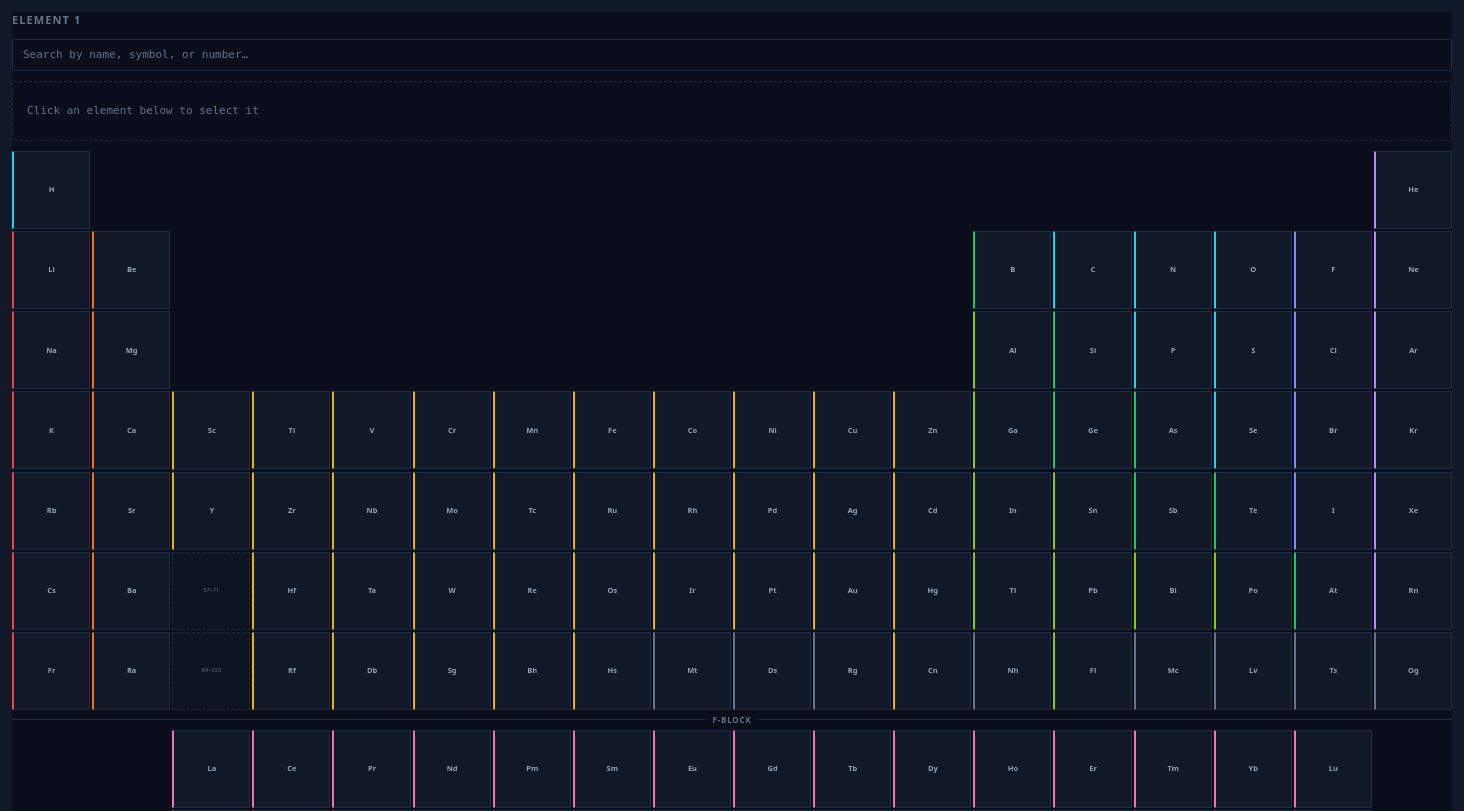
Test: ElementSelector › selects an element from the mini grid and shows the selected panel
Click the button "H": coordinates (51, 190) x1=12 y1=151 x2=90 y2=229
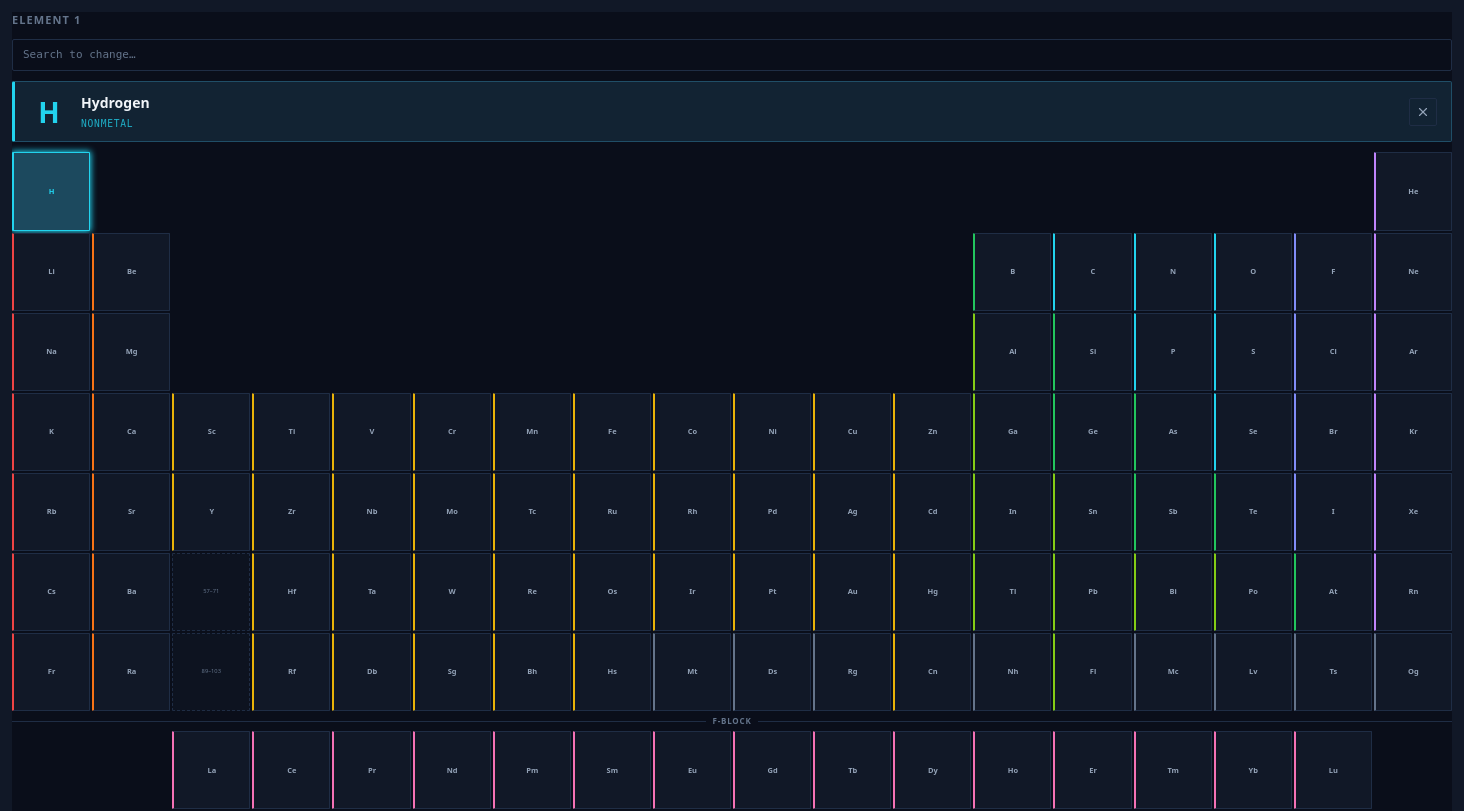
Expected: the element with class "selected-display" is shown, x1=12 y1=81 x2=1452 y2=142
Expected: the text with class "selected-symbol" reads "H", x1=38 y1=93 x2=60 y2=131
